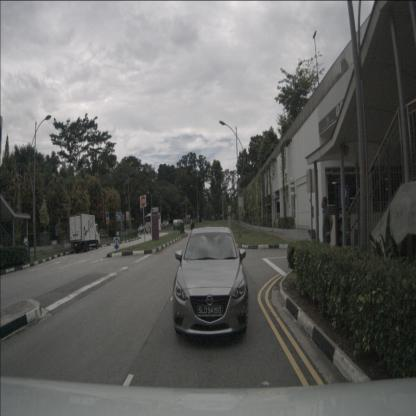human-pedestrian-adult: (321, 196, 333, 269), (23, 233, 28, 256), (191, 219, 195, 244)
vehicle-bus-rigid: (145, 213, 162, 234)
vehicle-car: (172, 226, 249, 342), (173, 220, 183, 229), (136, 226, 146, 233), (162, 221, 169, 228)
vehicle-truck: (69, 213, 100, 254)
